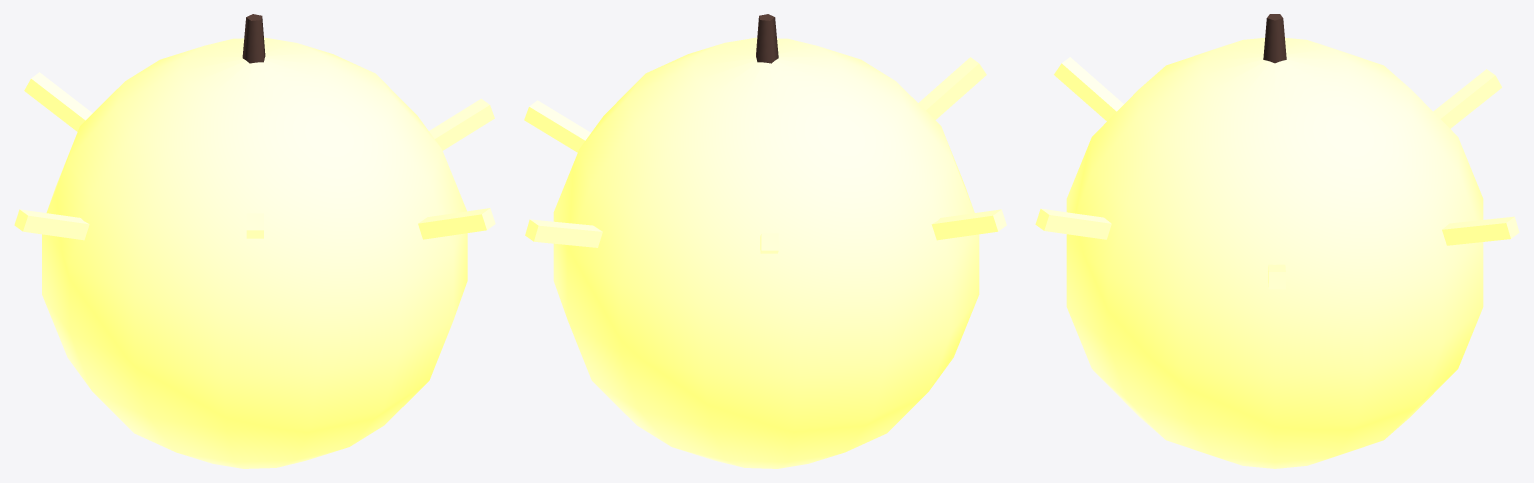
File: fruit-blueberry-shocked.gltf
The picture shows the model from 3 angles, left to right: view 1: azimuth 30°, elevation 25°; view 2: azimuth 150°, elevation 25°; view 3: azimuth 270°, elevation 25°; orthographic projection.
Size of the model in its own units: 0.3024 by 0.264 by 0.2678.
